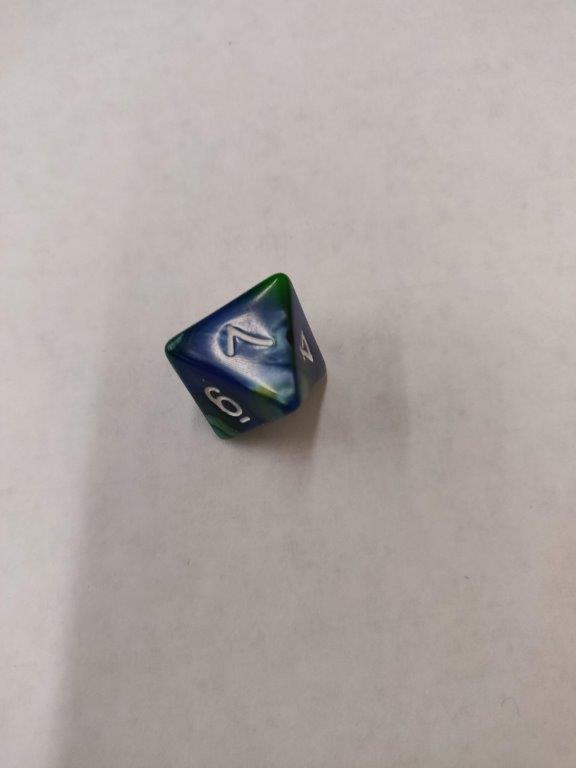d8-7: (163, 270, 330, 444)
